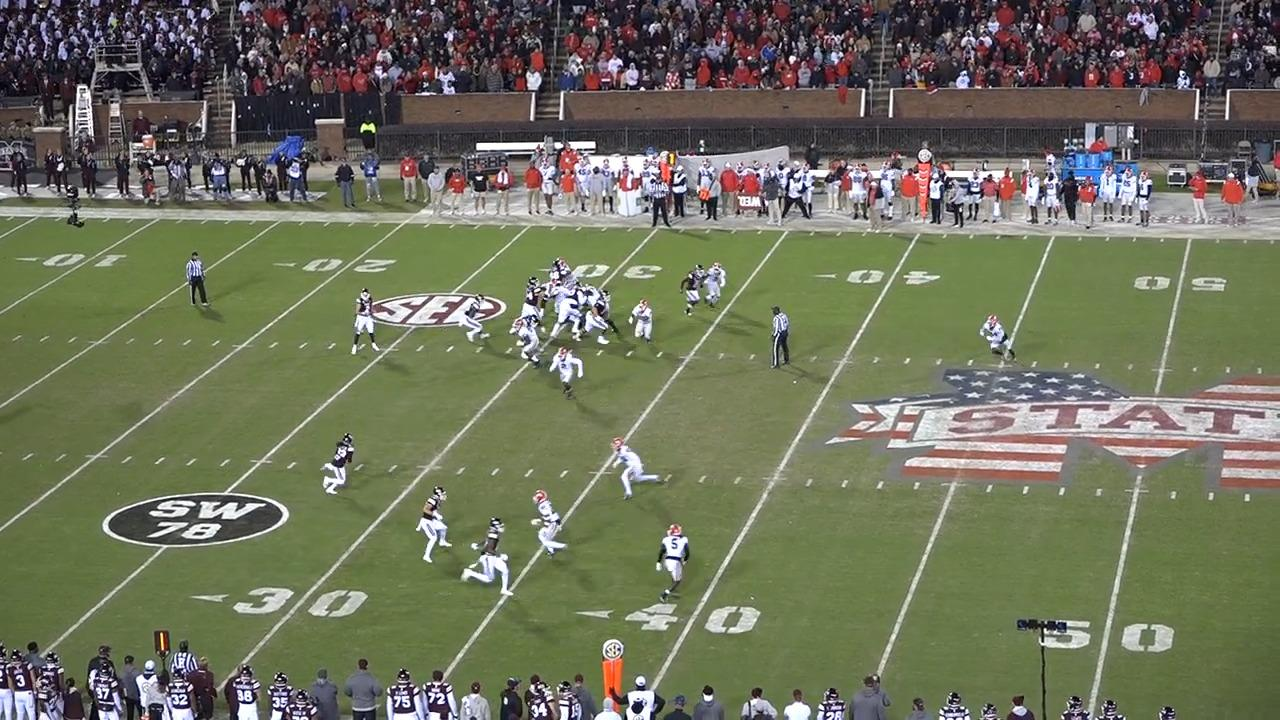player: (462, 514, 516, 601), (613, 437, 668, 502), (420, 483, 457, 563), (658, 525, 694, 606), (535, 487, 573, 557), (320, 431, 360, 496), (548, 278, 585, 340), (352, 287, 383, 358), (577, 289, 610, 347), (975, 315, 1012, 366), (548, 346, 582, 401), (512, 316, 543, 373), (632, 300, 661, 357), (677, 265, 706, 319), (463, 296, 492, 347), (586, 284, 617, 331), (705, 262, 733, 313), (520, 275, 544, 329), (545, 278, 565, 314), (558, 257, 582, 286), (512, 314, 541, 328), (548, 259, 561, 286)
ref: (181, 250, 209, 312), (770, 304, 795, 372), (648, 173, 674, 230), (168, 639, 198, 683)
